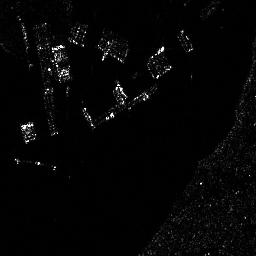ship: (176, 28, 194, 54)
